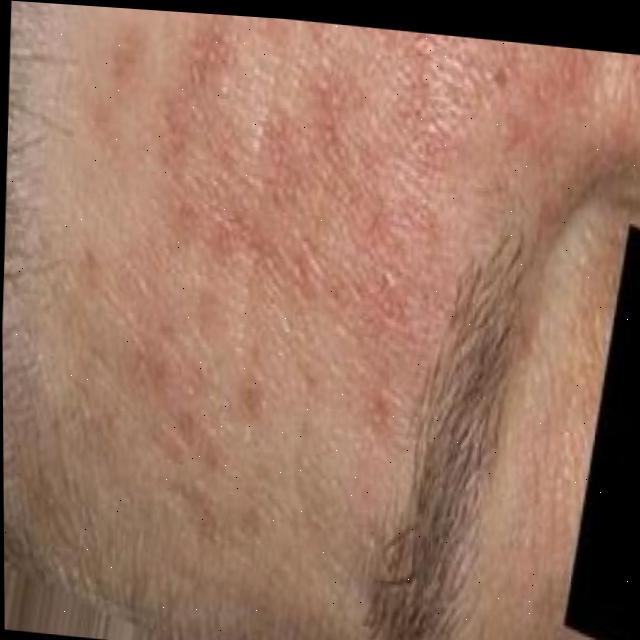Rosacea: (101, 43, 396, 519)
